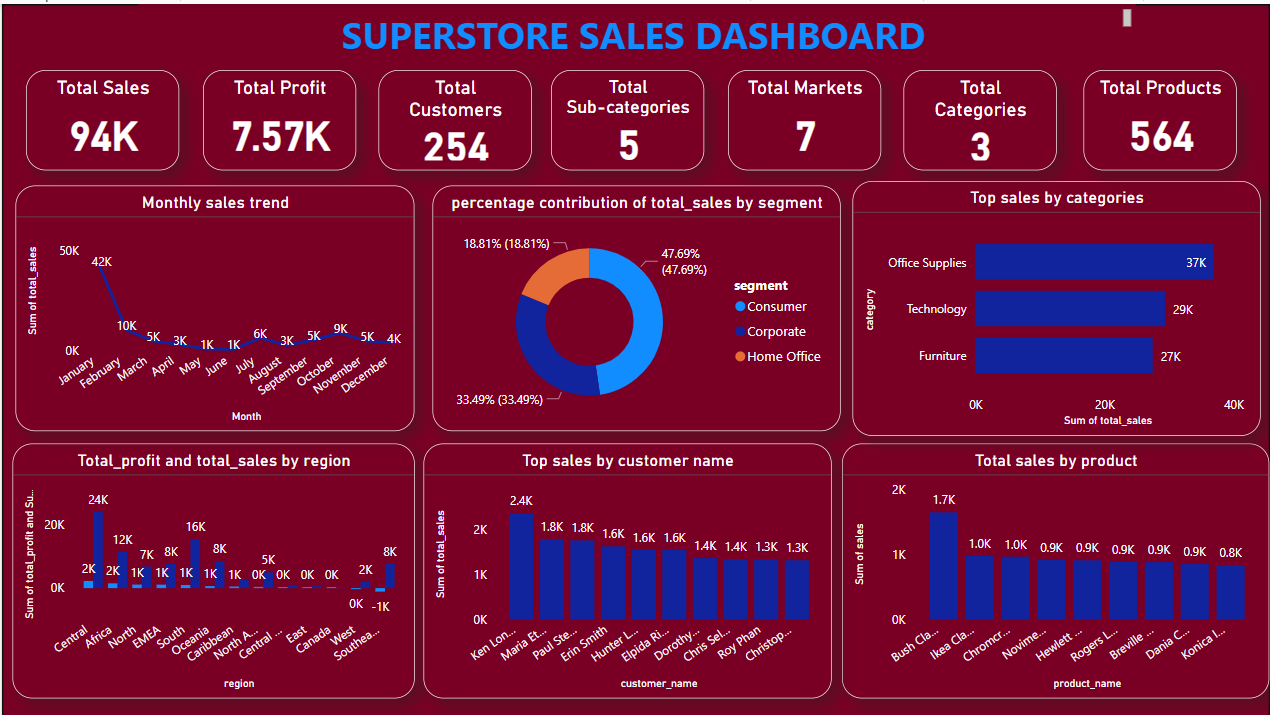

The page's visual inventory and layout, read from the dashboard file:
{"tool":"powerbi","page":{"name":"Page 1","canvas":[1280,720],"ordinal":0},"visuals":[{"type":"clusteredColumnChart","title":"Total_profit and total_sales by region","fields":{"Category":["profit and sales of region.region"],"Y":["profit and sales of region.total_profit","profit and sales of region.total_sales"]},"box":[10.6,443.7,405.8,257.4],"z":0},{"type":"clusteredColumnChart","title":"Total sales by product","fields":{"Category":["top product sales.product_name"],"Y":["top product sales.sales"]},"box":[848,443.7,431.5,257.4],"z":1000},{"type":"lineChart","title":"Monthly sales trend","fields":{"Category":["monthly sales trend.month.Variation.Date Hierarchy.Month"],"Y":["monthly sales trend.total_sales"]},"box":[13.6,183.2,402.8,248.3],"z":2000},{"type":"donutChart","title":"percentage contribution of  total_sales by segment","fields":{"Category":["sales of customer segment.segment"],"Y":["sales of customer segment.total_sales"]},"box":[434.6,183.2,411.9,248.3],"z":3000},{"type":"clusteredColumnChart","title":"Top sales by customer name","fields":{"Category":["sales by custome name.customer_name"],"Y":["sales by custome name.total_sales"]},"box":[425.5,443.7,411.9,257.4],"z":4000},{"type":"clusteredBarChart","title":"Top sales by categories","fields":{"Category":["sales by categories.category"],"Y":["sales by categories.total_sales"]},"box":[858.6,178.7,411.9,257.4],"z":5000},{"type":"card","title":"Total Sales","fields":{"Values":["total sale and profit.total_sales"]},"box":[24.2,66.6,154.4,101.5],"z":6000},{"type":"card","title":"Total Profit","fields":{"Values":["total sale and profit.total_profit"]},"box":[202.9,66.6,154.4,101.5],"z":7000},{"type":"card","title":"Total Customers","fields":{"Values":["total customers.total_customers"]},"box":[380.1,66.6,154.4,101.5],"z":8000},{"type":"card","title":"Total Sub-categories","fields":{"Values":["sales by sub-categories.sub_category"]},"box":[554.2,66.6,154.4,101.5],"z":9000},{"type":"card","title":"Total Markets","fields":{"Values":["sales performance vary across different markets.market"]},"box":[732.9,66.6,154.4,101.5],"z":10000},{"type":"card","title":"Total Categories","fields":{"Values":["sales by categories.category"]},"box":[910,66.6,154.4,101.5],"z":11000},{"type":"card","title":"Total Products","fields":{"Values":["count of products.total_products"]},"box":[1091.7,66.6,154.4,101.5],"z":12000},{"type":"textbox","box":[137.8,0,1006.9,51.5],"z":13000}]}

Visuals, with their boxes in screenshot pixels (x1, y1, x2, y2), scaled from the page's 1280x720 canvas onto the 1270x715 screenshot:
"Total_profit and total_sales by region" clusteredColumnChart: (x1=11, y1=441, x2=413, y2=696)
"Total sales by product" clusteredColumnChart: (x1=841, y1=441, x2=1269, y2=696)
"Monthly sales trend" lineChart: (x1=13, y1=182, x2=413, y2=429)
"percentage contribution of  total_sales by segment" donutChart: (x1=431, y1=182, x2=840, y2=429)
"Top sales by customer name" clusteredColumnChart: (x1=422, y1=441, x2=831, y2=696)
"Top sales by categories" clusteredBarChart: (x1=852, y1=177, x2=1261, y2=433)
"Total Sales" card: (x1=24, y1=66, x2=177, y2=167)
"Total Profit" card: (x1=201, y1=66, x2=355, y2=167)
"Total Customers" card: (x1=377, y1=66, x2=530, y2=167)
"Total Sub-categories" card: (x1=550, y1=66, x2=703, y2=167)
"Total Markets" card: (x1=727, y1=66, x2=880, y2=167)
"Total Categories" card: (x1=903, y1=66, x2=1056, y2=167)
"Total Products" card: (x1=1083, y1=66, x2=1236, y2=167)
textbox: (x1=137, y1=0, x2=1136, y2=51)
